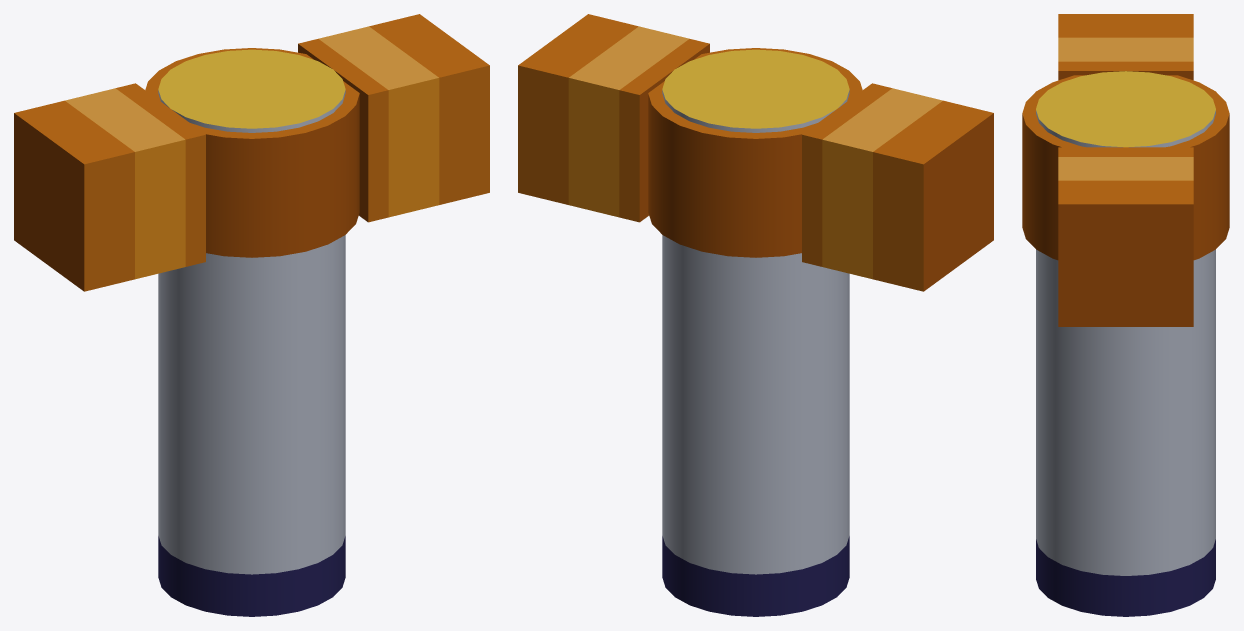
Rendered from spinner.glb.
3 renders of one model, left to right at view 1: azimuth 30°, elevation 25°; view 2: azimuth 150°, elevation 25°; view 3: azimuth 270°, elevation 25°, orthographic. The views are drawn at different scales.
Parts seen in each view (by area): view 1: Bar, Post; view 2: Bar, Post; view 3: Post, Bar.
Part boxes in pixels (x1=…): Bar: x1=14, y1=14, x2=489, y2=291; Post: x1=158, y1=49, x2=345, y2=616; Bar: x1=518, y1=14, x2=993, y2=291; Post: x1=662, y1=49, x2=849, y2=616; Post: x1=1036, y1=71, x2=1215, y2=616; Bar: x1=1022, y1=14, x2=1229, y2=326.
Size of the model in its own units: 1 by 1.15 by 0.46.
